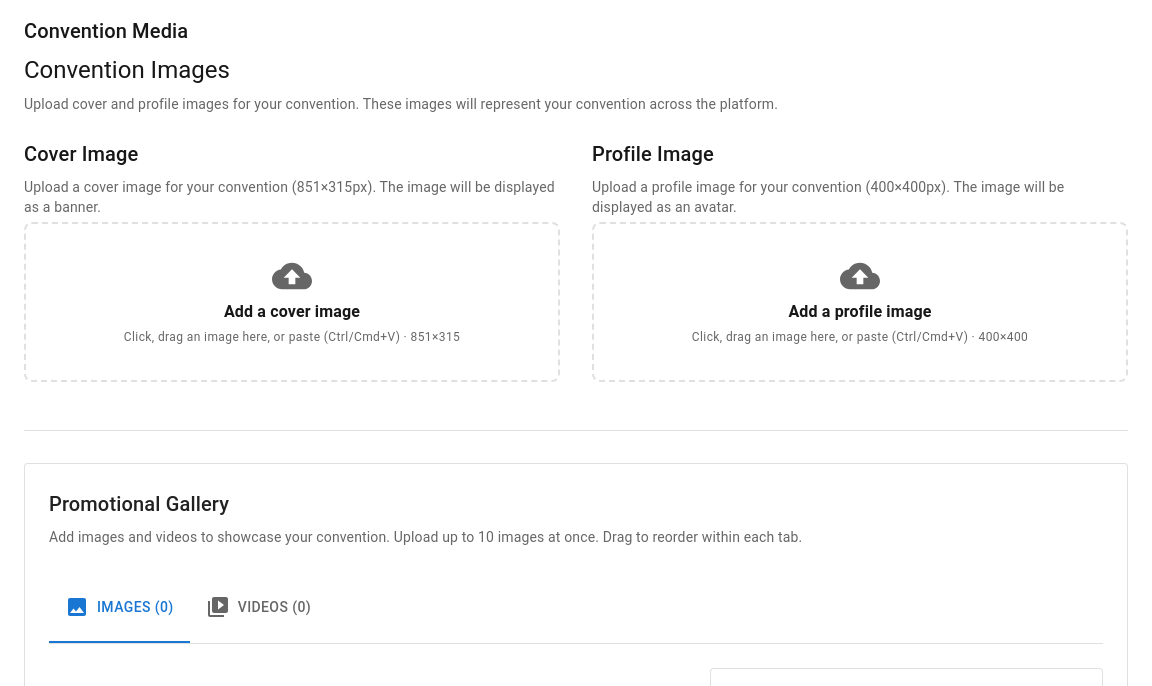
MediaTab › Tab Navigation › should show correct empty states for each tab
// Switch to Videos tab
What coordinates should you click on to do the following:
click the tab "Videos (0)"
I would click on:
 (258, 607)
Its box is [190,571,327,643].
(page scrolled)
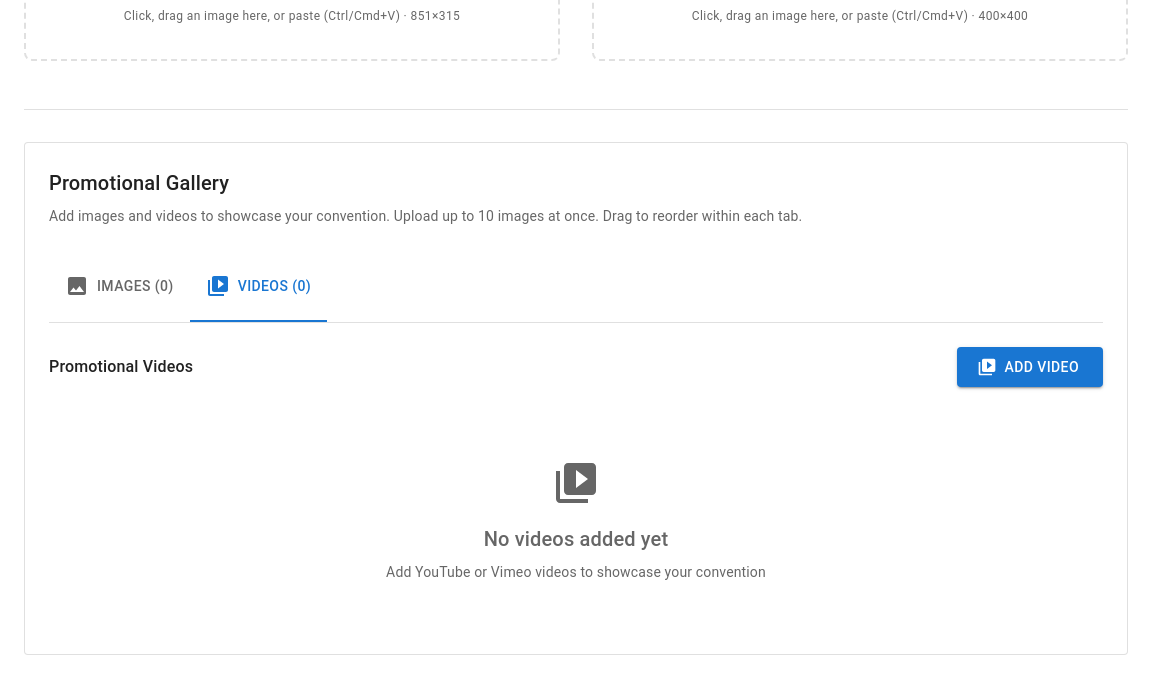
Expected: the heading "No videos added yet" is shown, [484,527,668,551]
